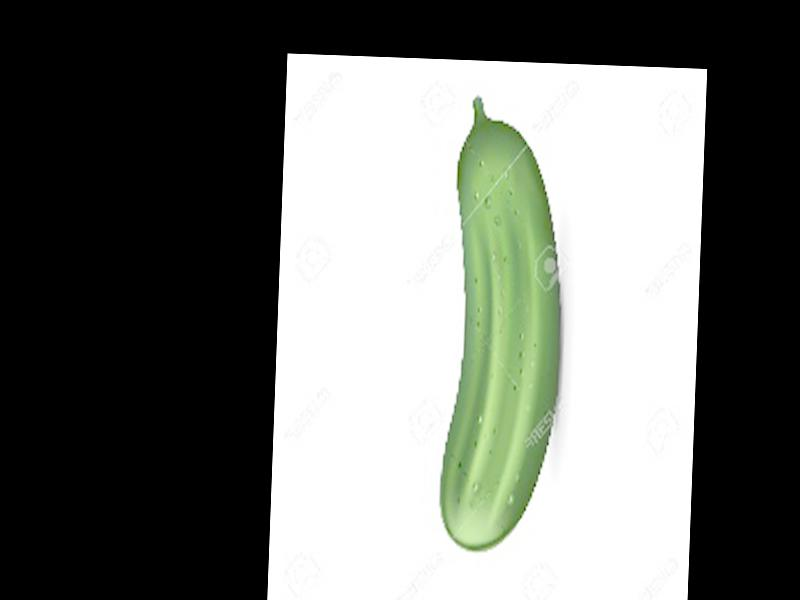Cucumber: (437, 96, 571, 554)
